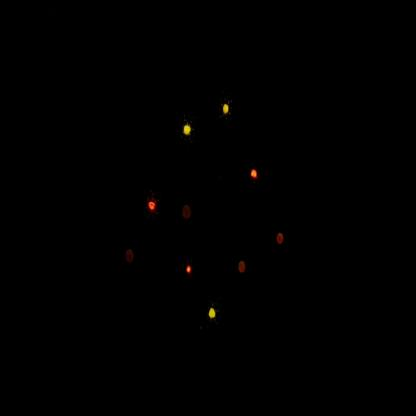PE: (215, 84, 241, 131), (176, 109, 202, 147), (201, 296, 224, 329)
PS: (121, 236, 146, 279), (271, 214, 290, 254), (234, 254, 253, 286), (184, 195, 202, 226)
PVC: (178, 254, 201, 288), (143, 191, 165, 222), (247, 161, 262, 188)
